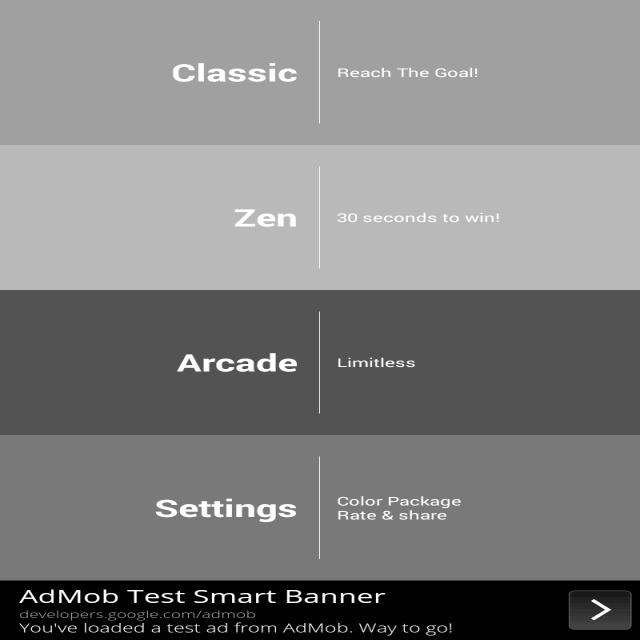ImageButton: (560, 590, 631, 634)
TextView: (11, 584, 467, 638), (210, 188, 315, 240), (322, 203, 492, 233), (155, 346, 295, 382), (341, 486, 463, 526), (152, 62, 322, 90), (350, 62, 488, 94), (162, 486, 278, 524), (312, 352, 450, 375)
